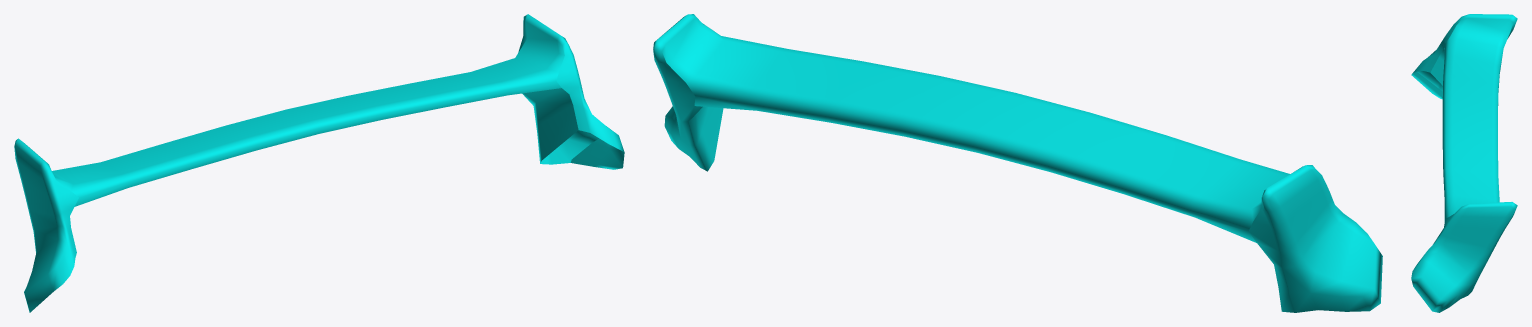
The model's file is Accent_V4_Wing.fbx.
3 views of the same model, side by side, from view 1: azimuth 30°, elevation 25°; view 2: azimuth 150°, elevation 25°; view 3: azimuth 270°, elevation 25° (orthographic). The views are drawn at different scales.
Parts seen in each view (by area): view 1: Accent_V4_Wing; view 2: Accent_V4_Wing; view 3: Accent_V4_Wing.
Part boxes in pixels (box(x1,y1,x2,y2)): Accent_V4_Wing: box(14, 14, 624, 312); Accent_V4_Wing: box(653, 14, 1382, 312); Accent_V4_Wing: box(1411, 14, 1517, 312).
Bounding box in the file's own units: 25.4 × 5.3 × 5.25.
